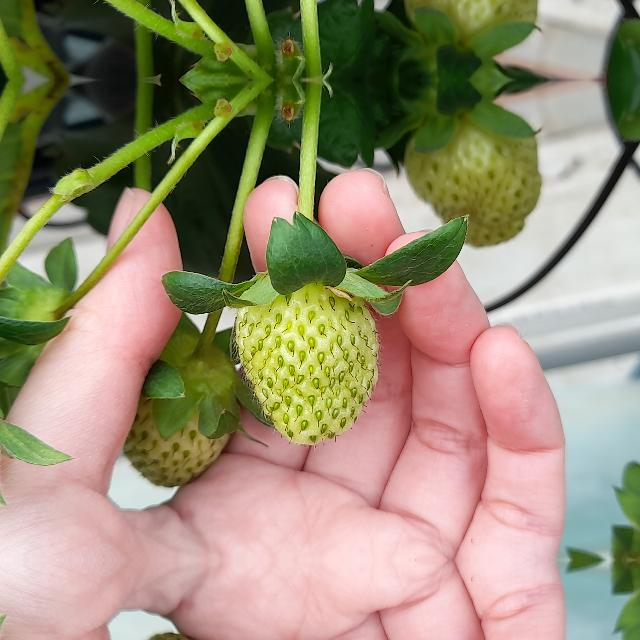Health_25: (234, 281, 378, 444), (402, 109, 548, 249), (120, 361, 234, 491), (401, 0, 548, 51)
